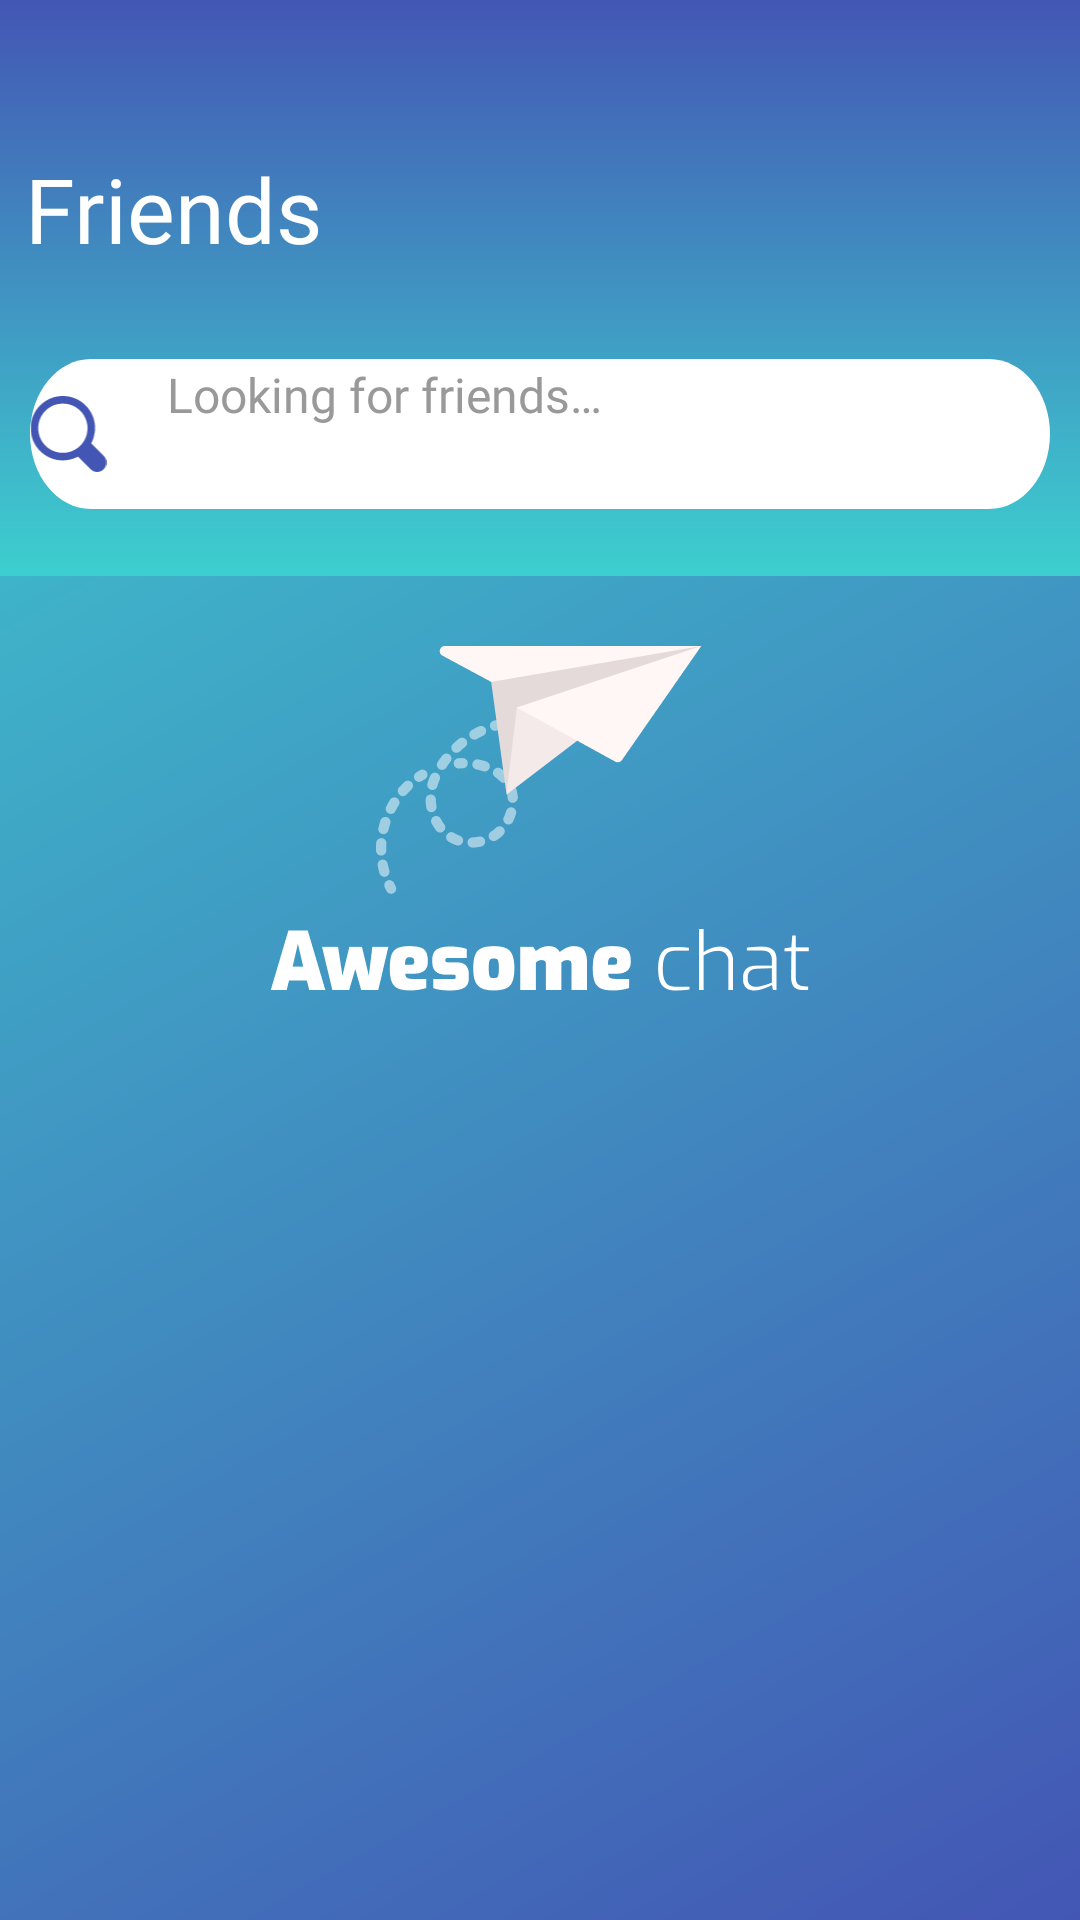

Where icons sit on this 1080×1920 app screen, as (x1, y1, x2, y2):
search: (30, 396, 107, 472)
